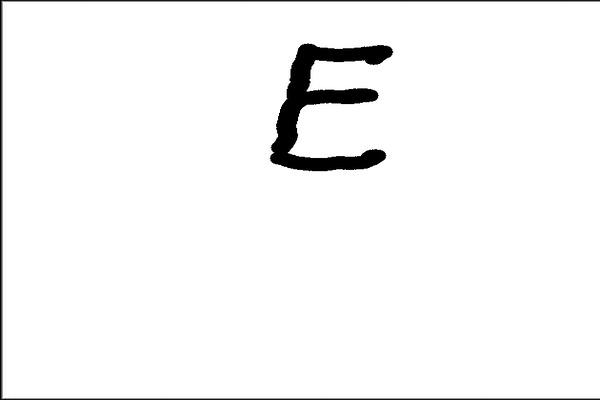E: (263, 35, 396, 173)
